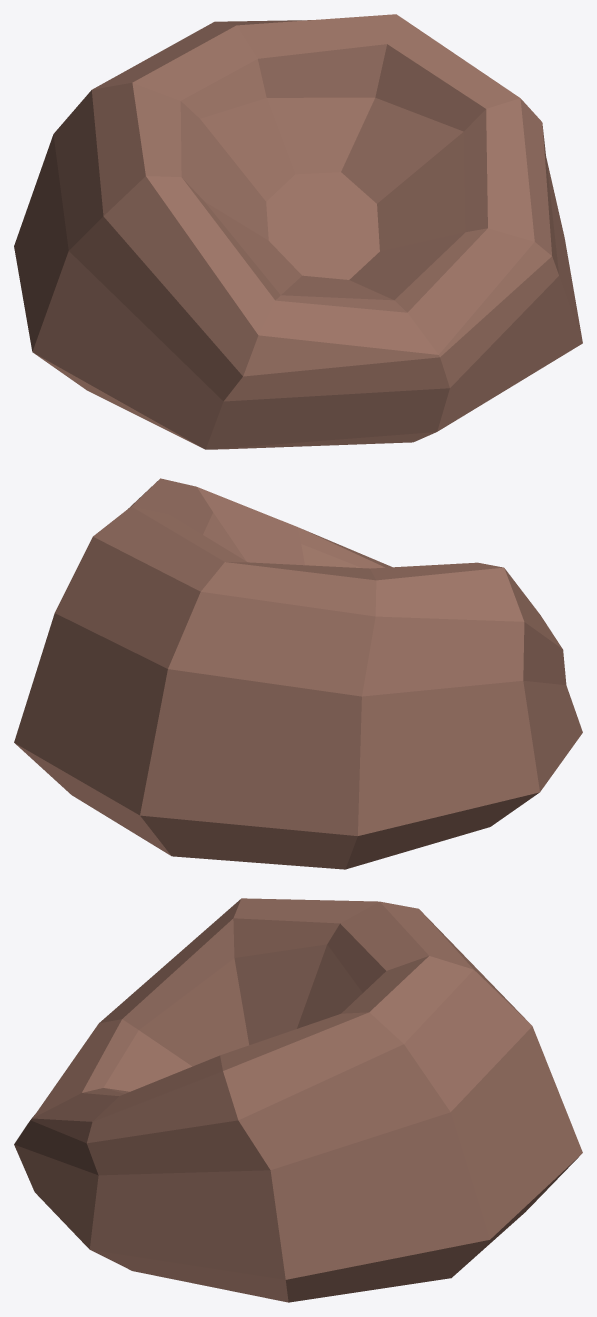
File: 10_beanbag_red.fbx
The picture shows the model from 3 angles, top to bottom: view 1: azimuth 30°, elevation 25°; view 2: azimuth 150°, elevation 25°; view 3: azimuth 270°, elevation 25°; orthographic projection. The views are drawn at different scales.
Visible parts, largest first — view 1: beanbag_red; view 2: beanbag_red; view 3: beanbag_red.
Part boxes in pixels (x1,y1,x2,y2): beanbag_red: [14, 14, 582, 449]; beanbag_red: [14, 478, 582, 869]; beanbag_red: [14, 898, 582, 1302].
Size of the model in its own units: 169 by 87.27 by 169.
